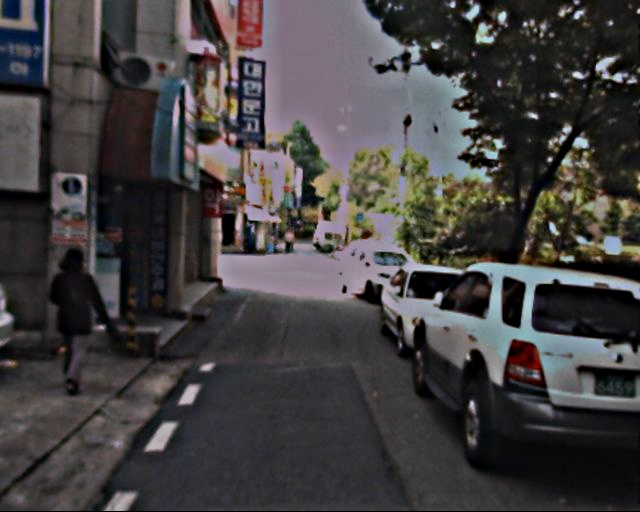person: (44, 245, 119, 393)
